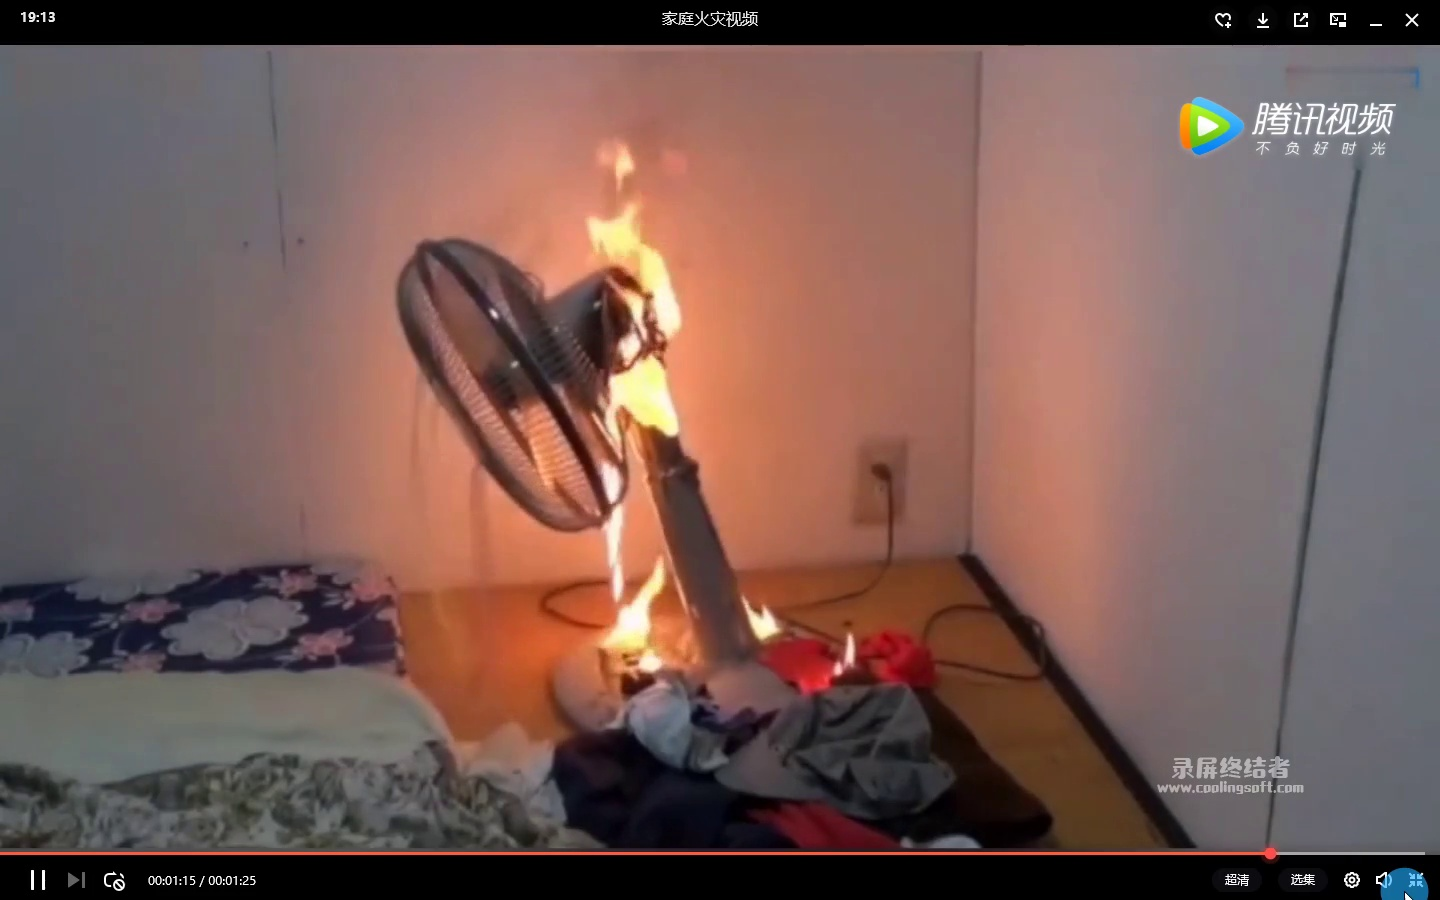fire: (575, 133, 699, 458), (582, 489, 677, 673)
